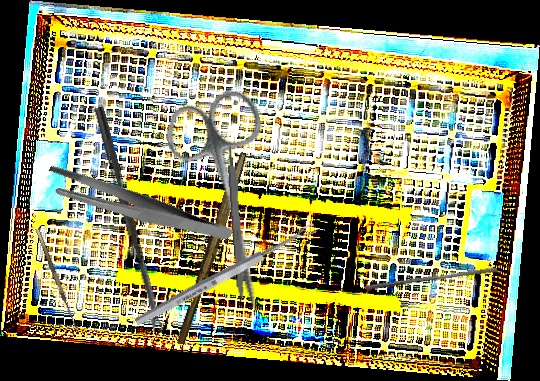Dressing Forceps: (40, 128, 234, 285)
Hook Surgical: (35, 225, 85, 335)
Iris Scissors: (159, 85, 305, 322)
Pusher: (365, 262, 498, 296)
Scalpel Handle: (175, 149, 248, 347), (226, 142, 248, 304)
Surgical Spoon: (133, 221, 318, 329), (92, 106, 164, 333)
